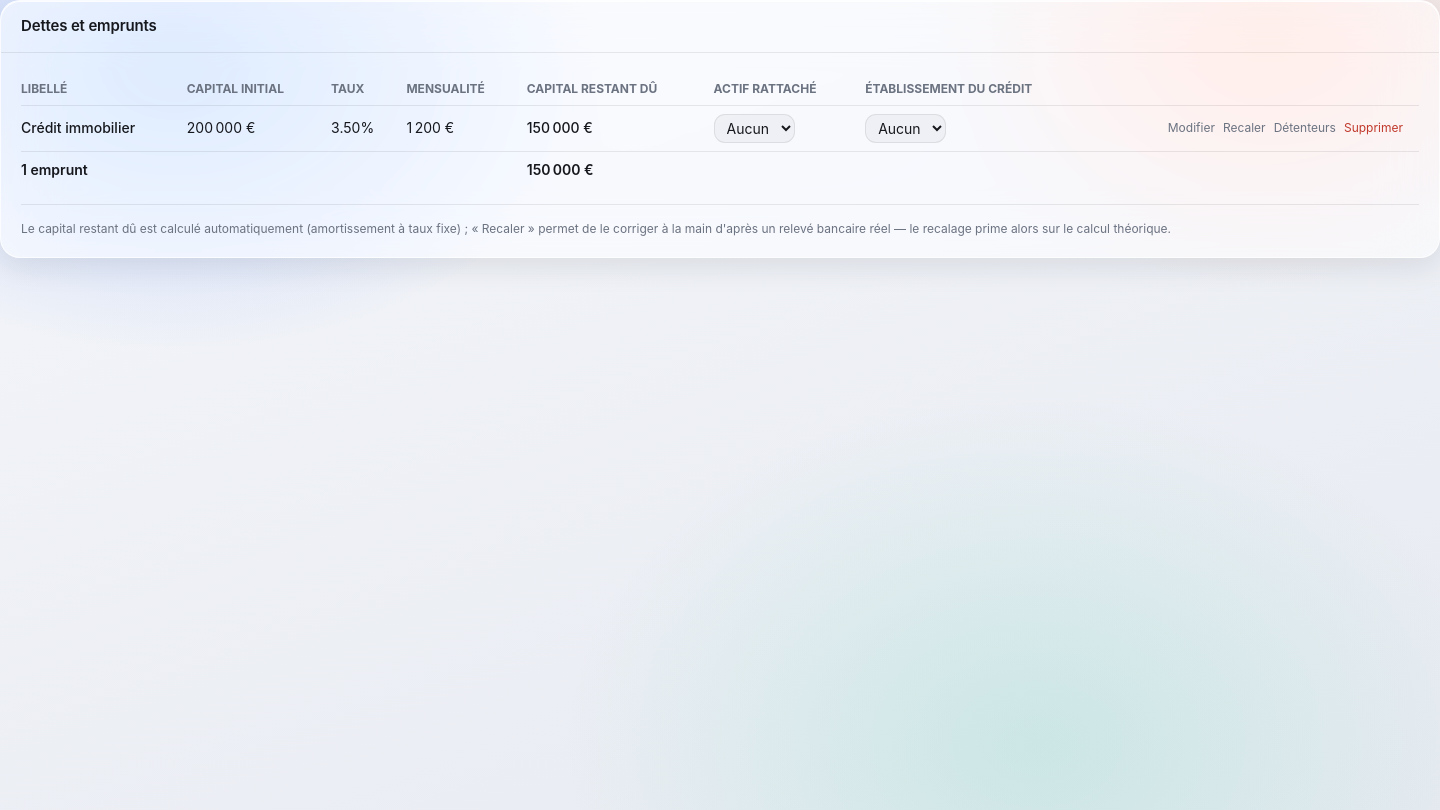
Test: LoansCard — édition complète (backlog quickwin § T.1) › Modifier pré-remplit le formulaire avec les valeurs actuelles
Expected: the text "Crédit immobilier" is shown, [21,105,187,151]
Click the button "Modifier": click(1191, 128) [1168,120,1215,136]
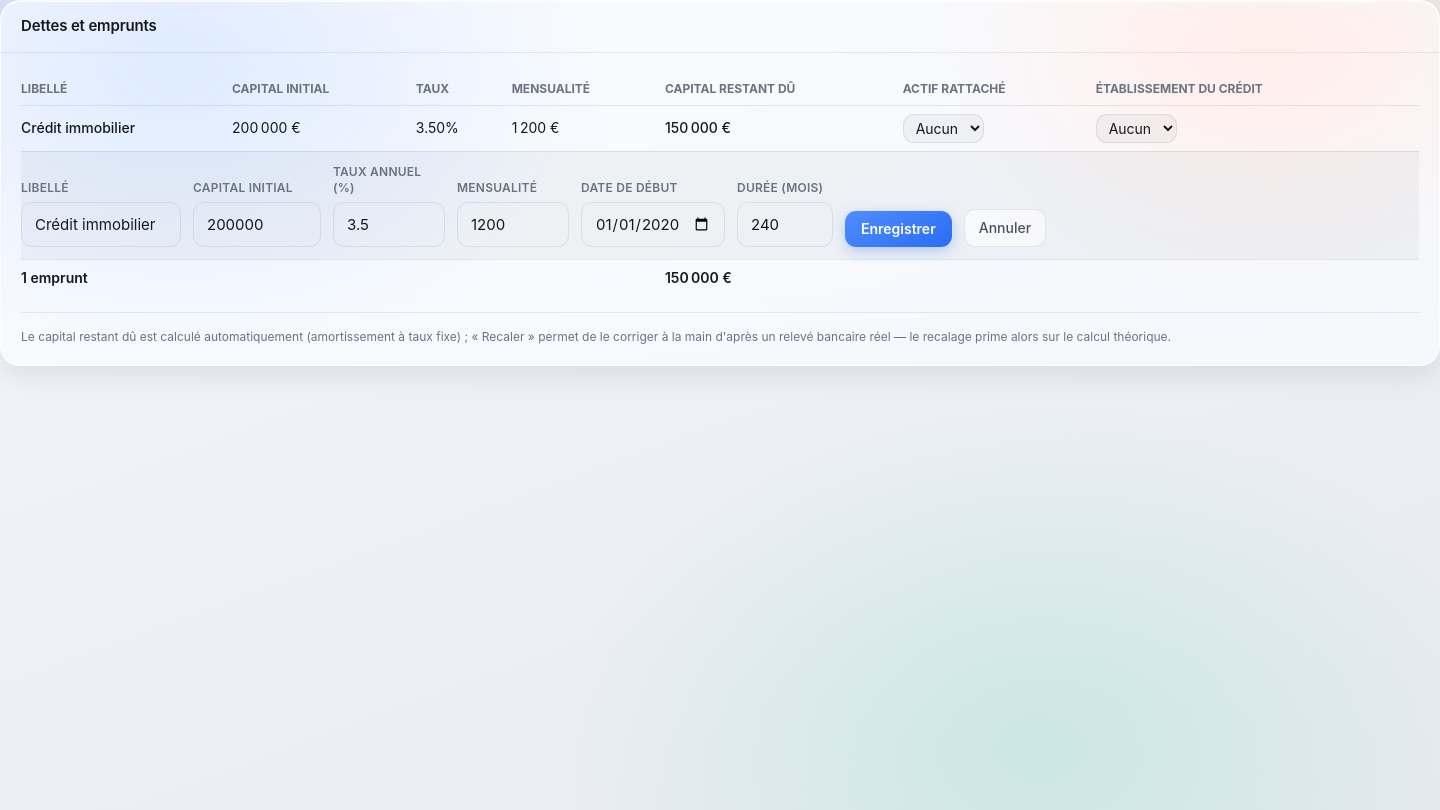
Expected: the field named "Libellé de Crédit immobilier (édition)" holds "Crédit immobilier", [21,202,181,247]
Expected: the number field named "Capital initial de Crédit immobilier (édition)" holds "200000", [193,202,321,247]
Expected: the number field named "Taux annuel de Crédit immobilier (édition)" holds "3.5", [333,202,445,247]
